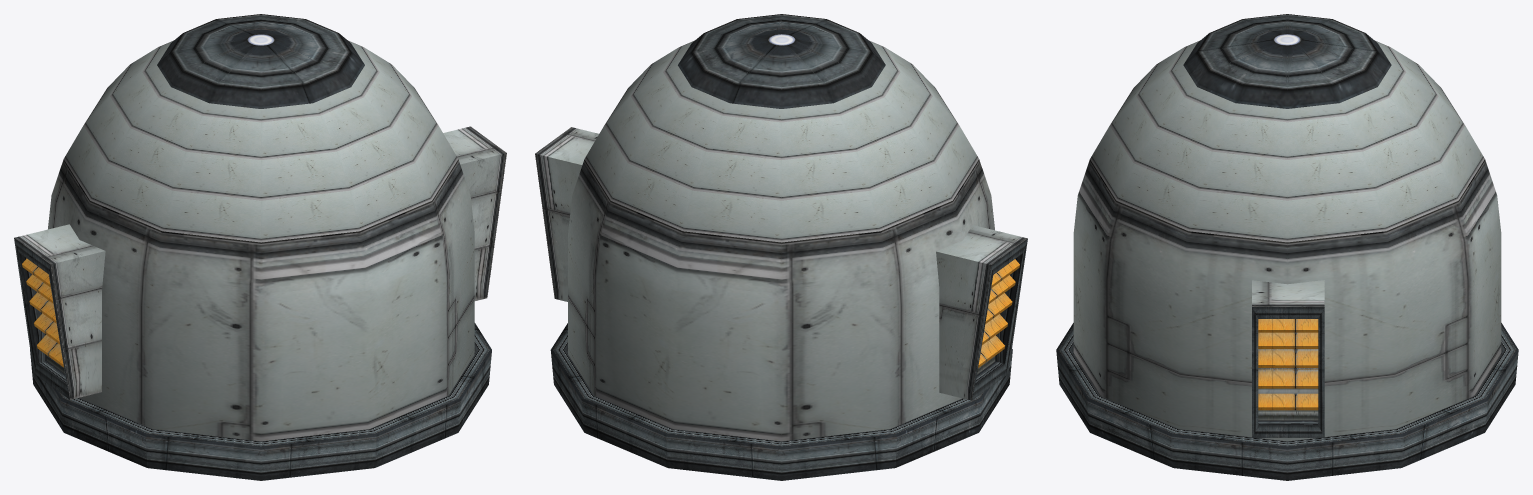
Rendered from redondalimpa.fbx.
3 views of the same model, side by side, from view 1: azimuth 30°, elevation 25°; view 2: azimuth 150°, elevation 25°; view 3: azimuth 270°, elevation 25° (orthographic).
Visible parts, largest first — view 1: Icosphere.000, Icosphere.001; view 2: Icosphere.000, Icosphere.001; view 3: Icosphere.000, Icosphere.001.
Part boxes in pixels (x1,y1,x2,y2): Icosphere.000: (30,14,491,480); Icosphere.001: (14,126,506,399); Icosphere.000: (550,14,1012,480); Icosphere.001: (535,127,1027,400); Icosphere.000: (1056,14,1518,480); Icosphere.001: (1252,280,1324,437).
Bounding box in the file's own units: 8.13 × 5.86 × 7.13.
